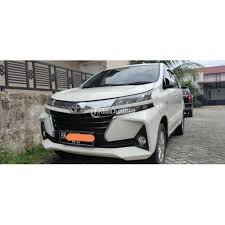mobil: (44, 66, 193, 165)
